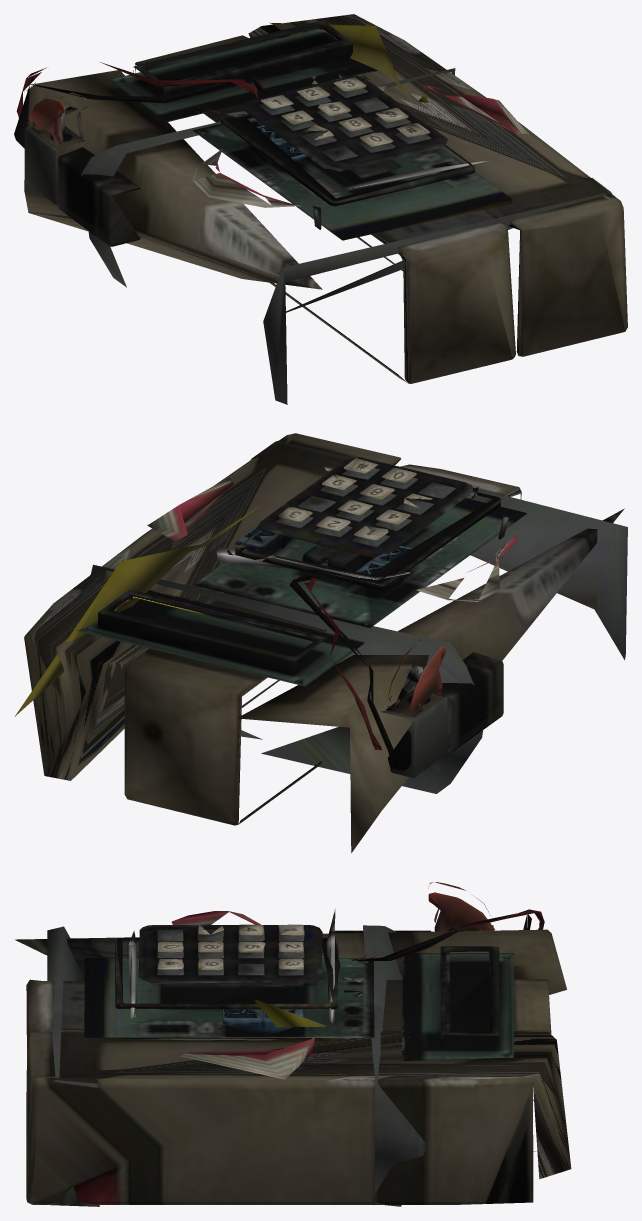
The model's file is p_backpack.glb.
The picture shows the model from 3 angles, top to bottom: view 1: azimuth 30°, elevation 25°; view 2: azimuth 150°, elevation 25°; view 3: azimuth 270°, elevation 25°; orthographic projection. The views are drawn at different scales.
Parts seen in each view (by area): view 1: p_backpack; view 2: p_backpack; view 3: p_backpack.
Boxes of the visible parts, bbox=[...] form: p_backpack: bbox=[14, 14, 627, 404]; p_backpack: bbox=[14, 433, 627, 852]; p_backpack: bbox=[15, 882, 571, 1206].
Bounding box in the file's own units: 0.221 × 0.1069 × 0.3303.
Materials: 2 (2 with a texture image).
